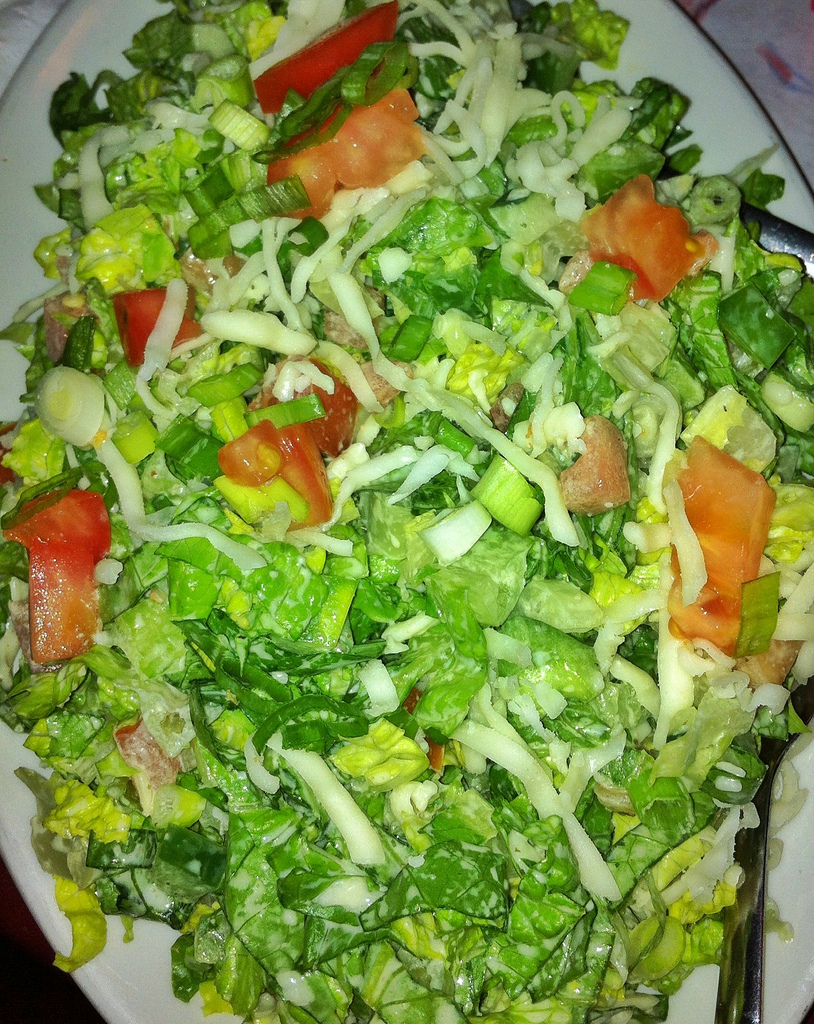chopped lettuce: (150, 92, 694, 1023)
